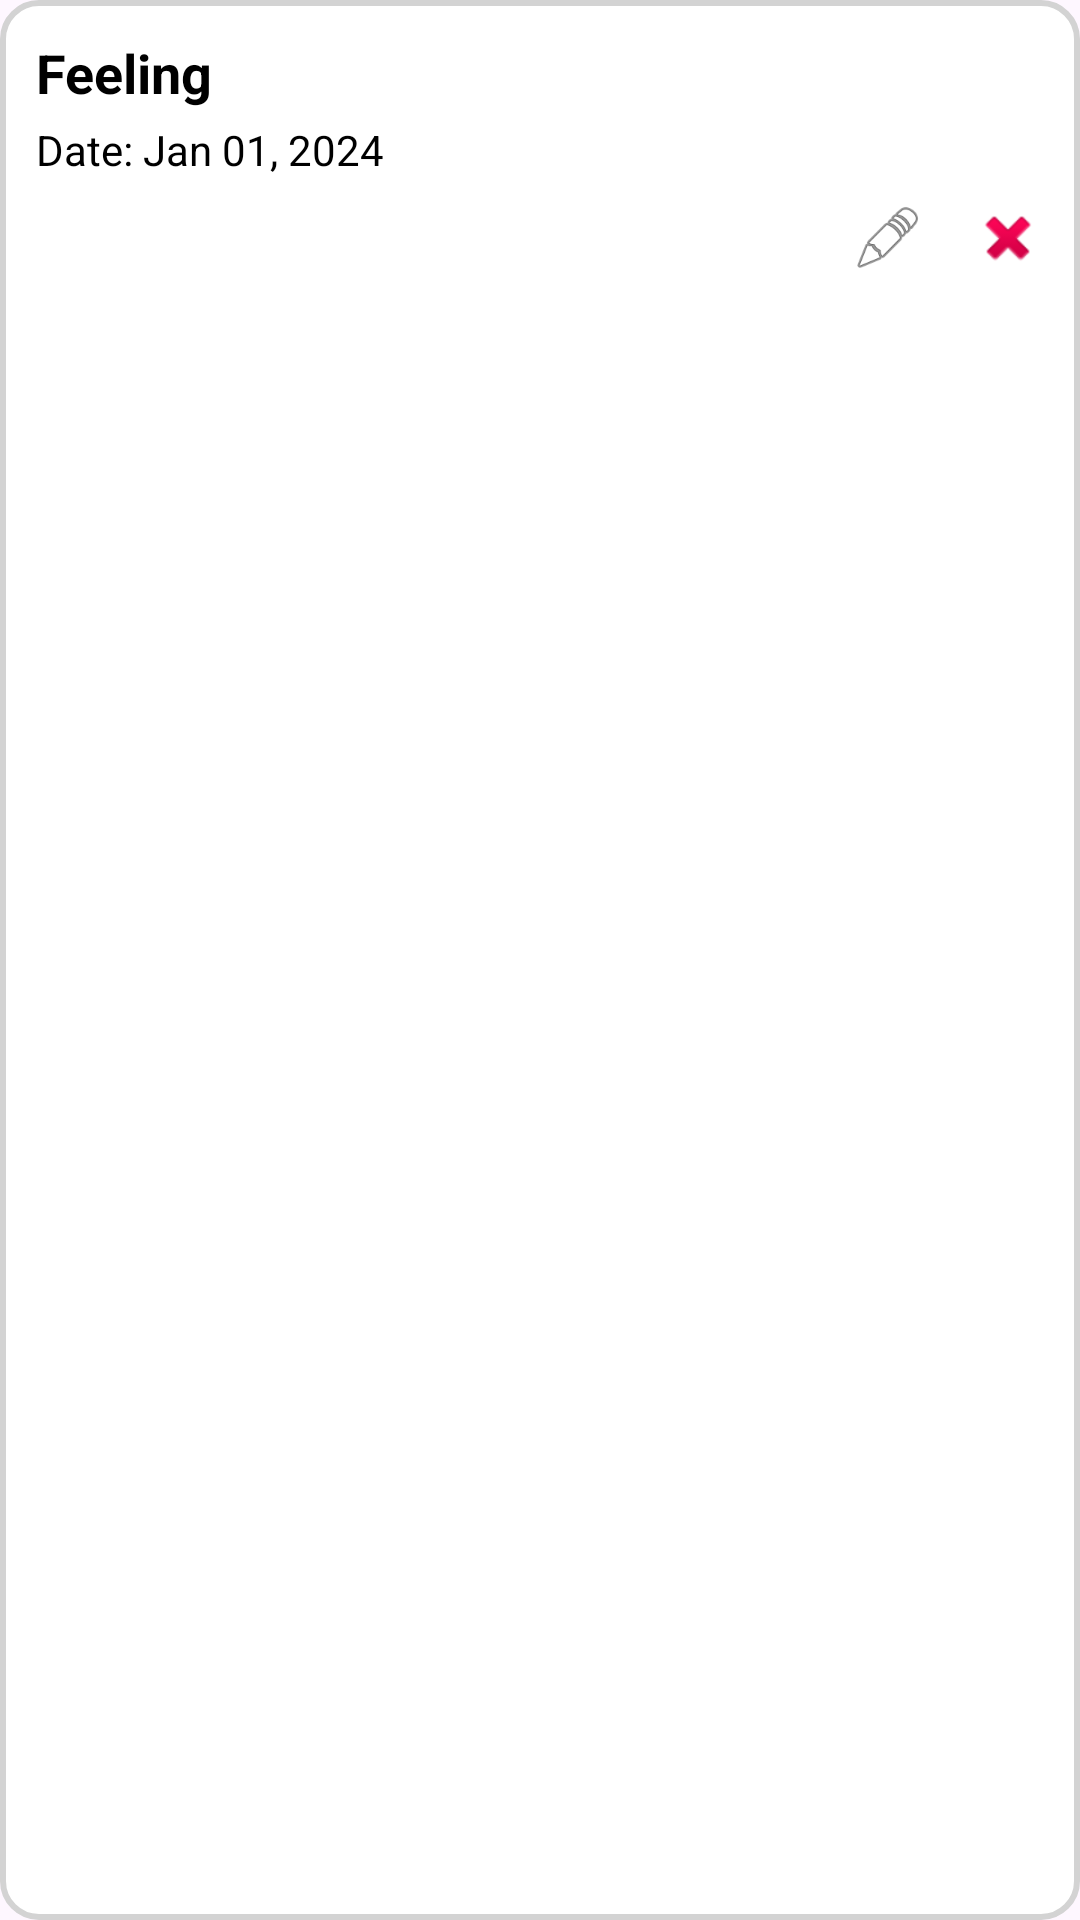

Icons on this 1080px x 1920px Android screen, each with the point to tap as (x=x, y=y):
Delete: (x=1008, y=238)
Edit: (x=887, y=237)
